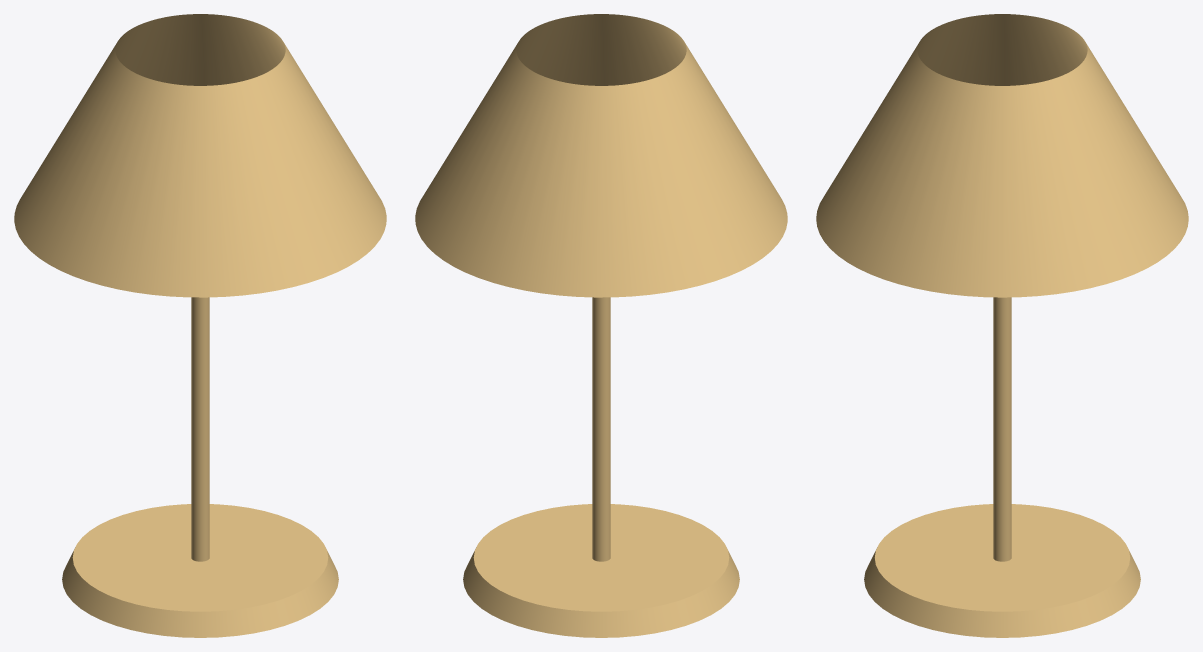
Rendered from interior-lamp.glb.
The picture shows the model from 3 angles, left to right: view 1: azimuth 30°, elevation 25°; view 2: azimuth 150°, elevation 25°; view 3: azimuth 270°, elevation 25°; orthographic projection.
Parts seen in each view (by area): view 1: Forma Monogram; view 2: Forma Monogram; view 3: Forma Monogram.
Boxes of the visible parts, x1,y1,x2,y2 form: Forma Monogram: (14,14,386,637); Forma Monogram: (415,14,787,637); Forma Monogram: (816,14,1188,637).
Bounding box in the file's own units: 1.4 × 2.19 × 1.4.
